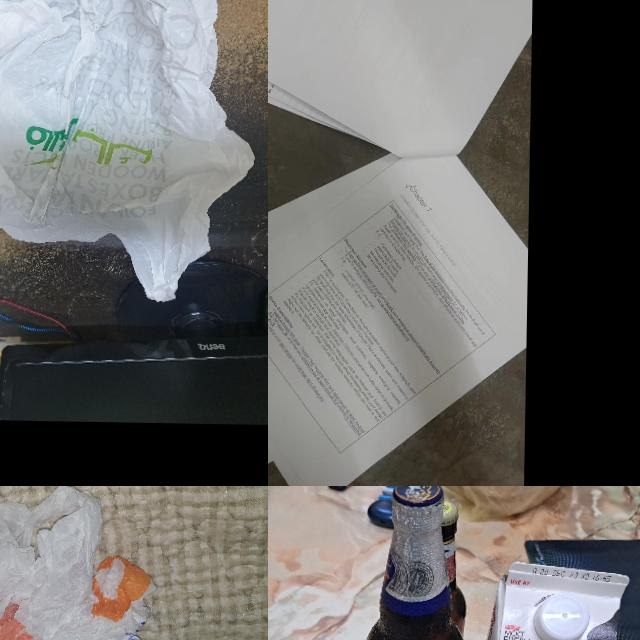caixinha: (454, 561, 628, 640)
garrafa de vidro: (358, 486, 470, 640), (439, 501, 468, 637)
papel: (268, 0, 533, 486)
sacola plástica: (0, 0, 257, 304), (0, 486, 155, 640)
tampa plástica: (533, 593, 589, 640)
